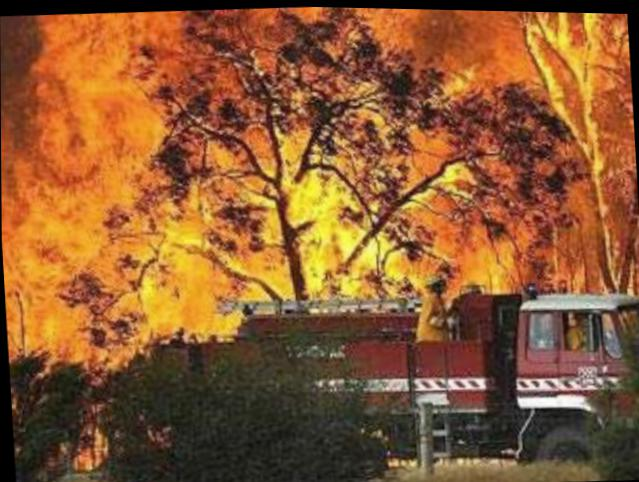fire: (0, 0, 637, 376), (66, 403, 109, 467)
